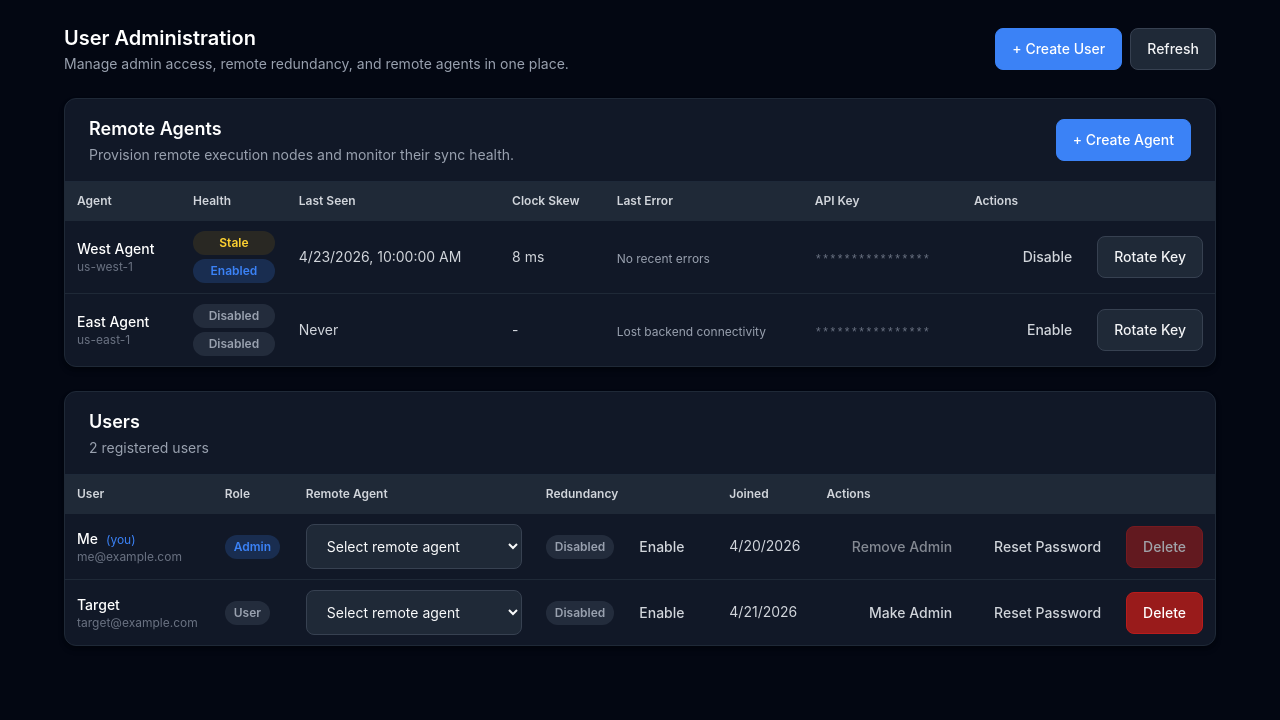
Test case: Admin remote redundancy UI › creates a remote agent and shows the one-time key modal
Expected: the heading "Remote Agents" is shown, [89,118,222,139]
Expected: the heading "Users" is shown, [89,411,140,432]
Click the button "+ Create Agent" at (1123, 140), box [1056,119,1191,161]
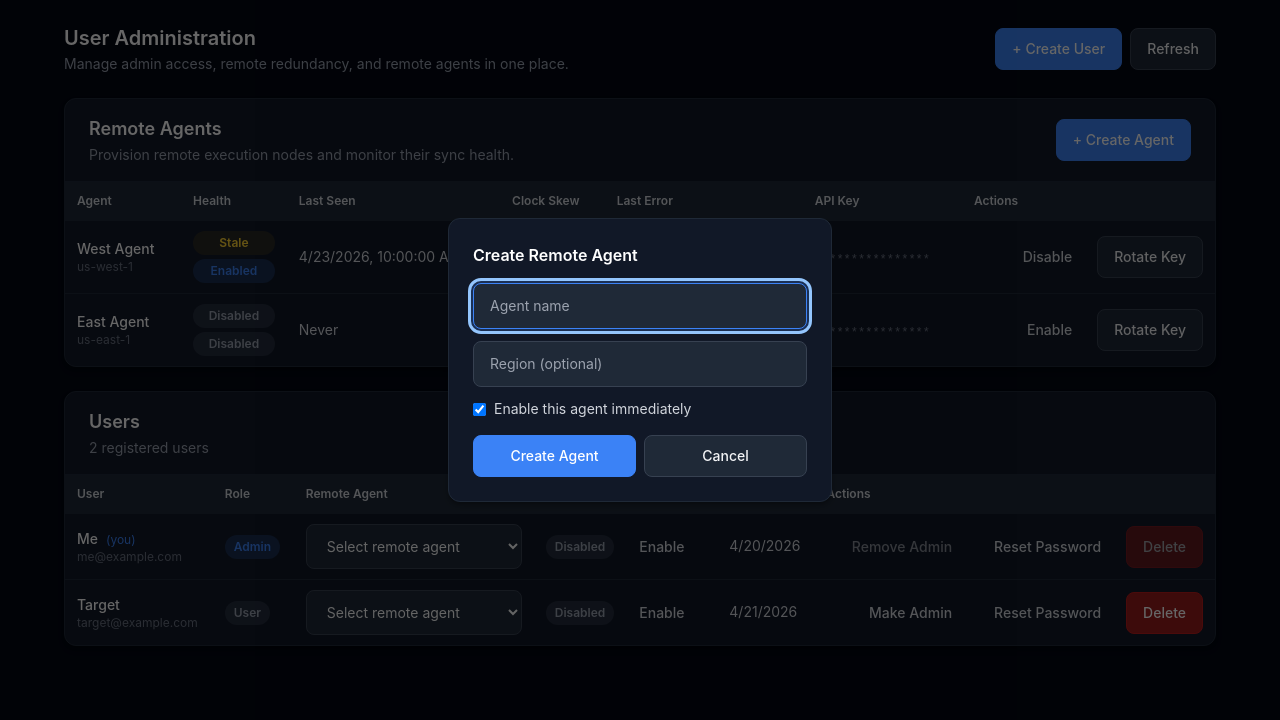
Type "Backup Agent" into the field with placeholder "Agent name" at (640, 306), box [473,283,807,329]
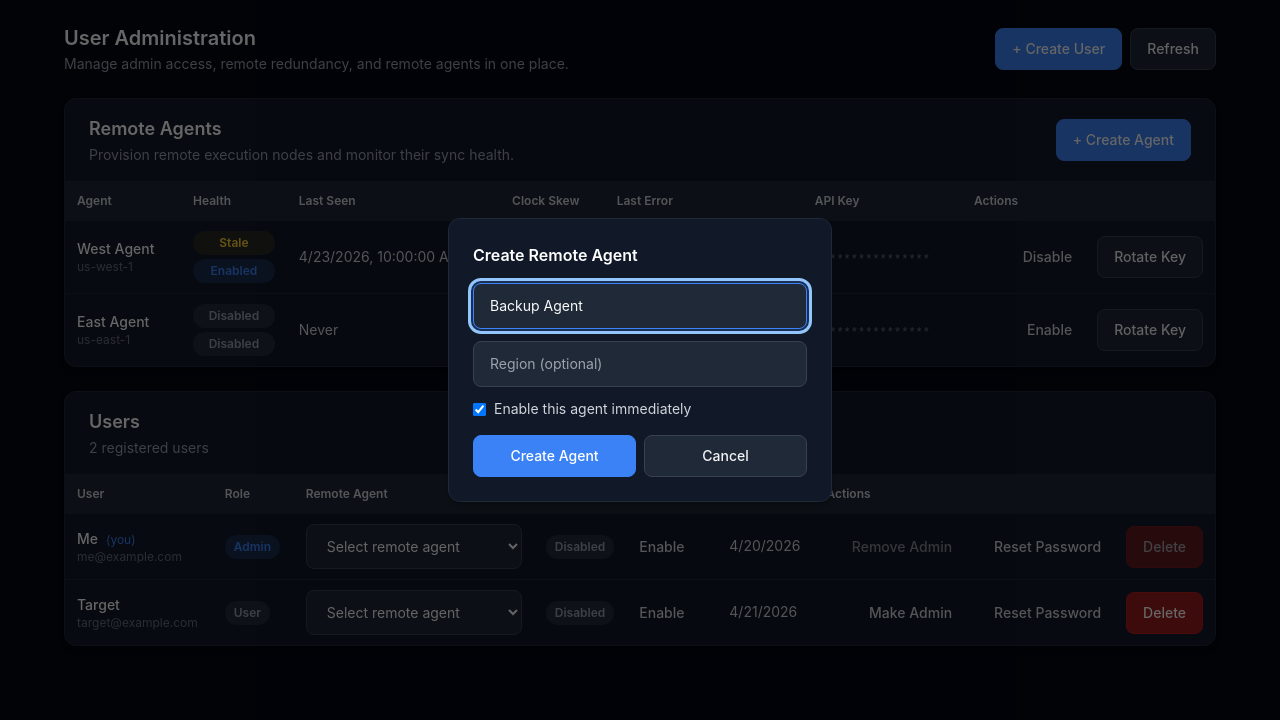
Type "eu-central-1" into the field with placeholder "Region (optional)" at (640, 364), box [473,341,807,387]
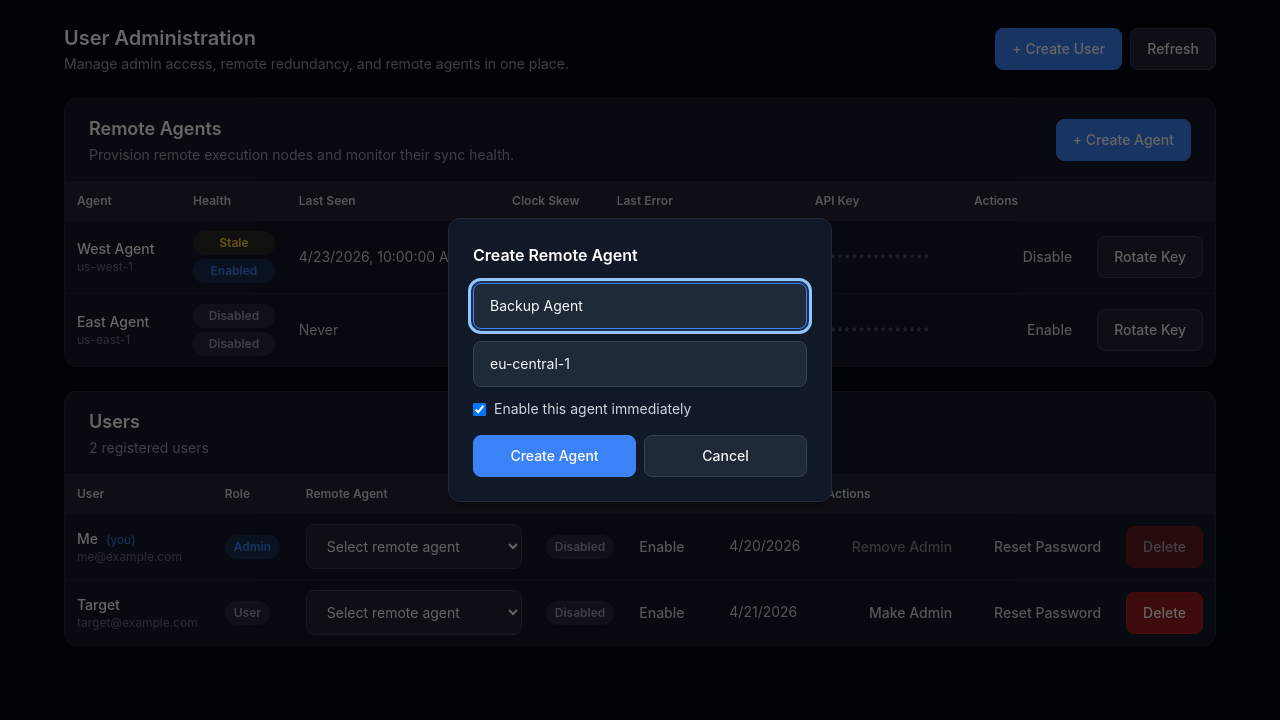
Click the button "Create Agent" at (554, 456), box [473,435,636,477]
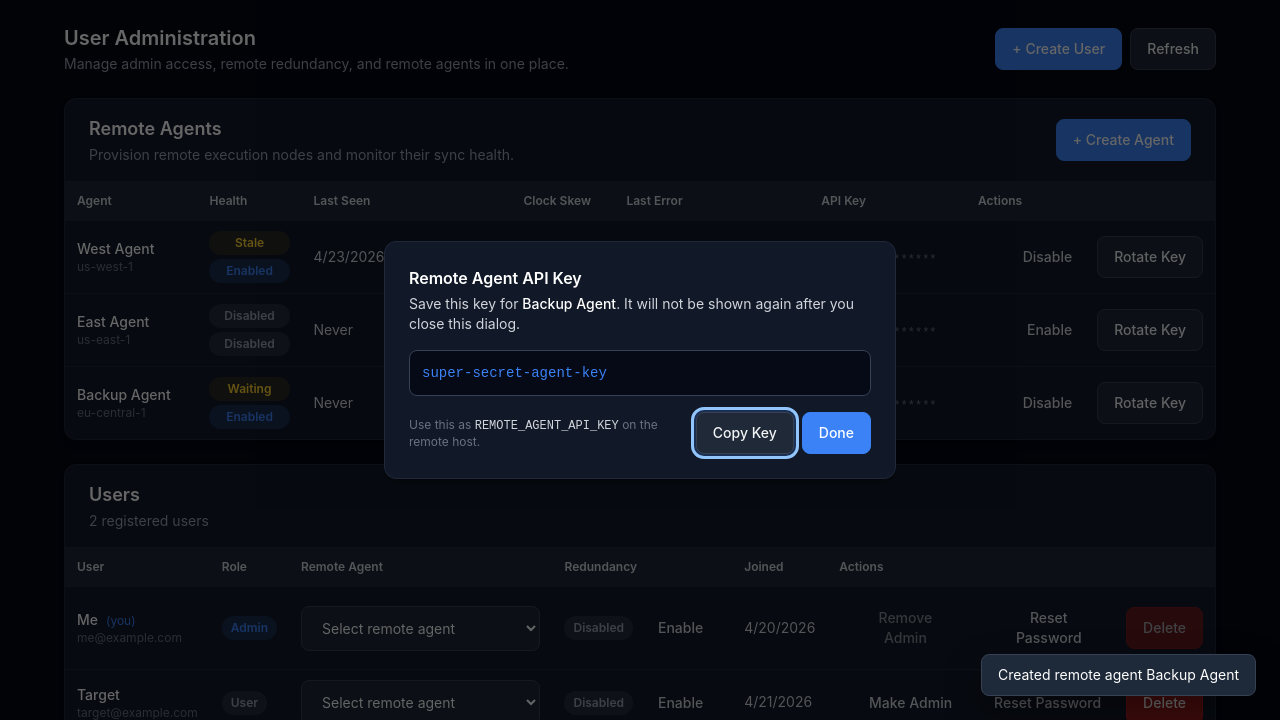
Expected: the heading "Remote Agent API Key" is shown, [409,268,582,288]
Expected: the text "super-secret-agent-key" is shown, [422,365,607,381]
